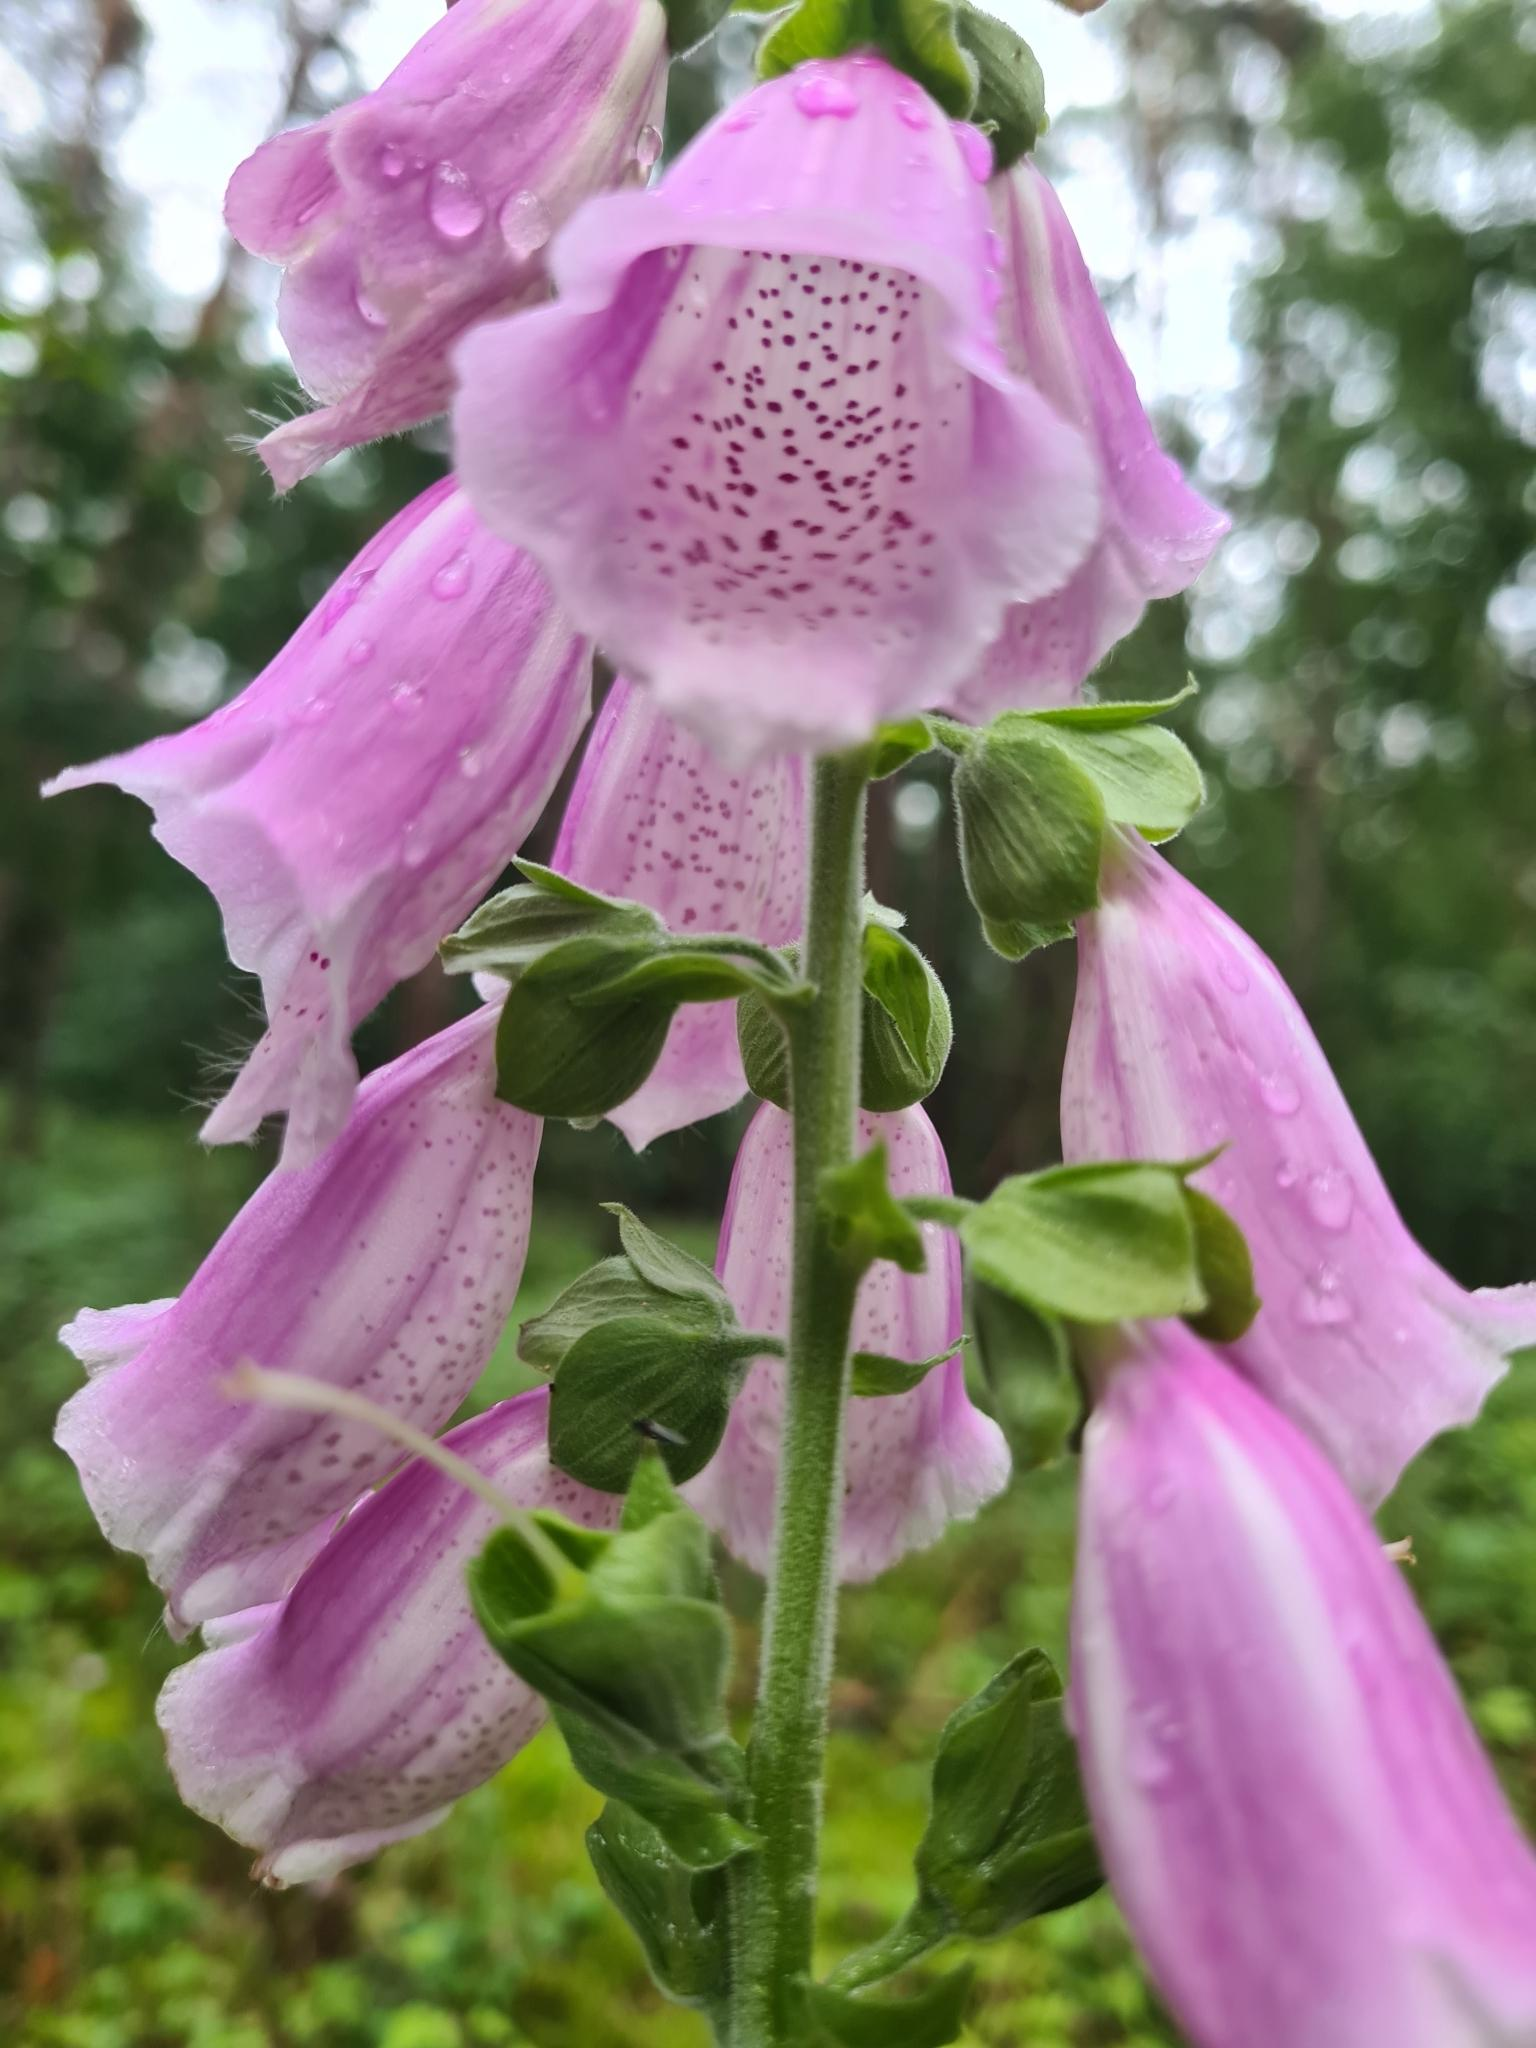Digitalis L: (124, 3, 1533, 1979)
